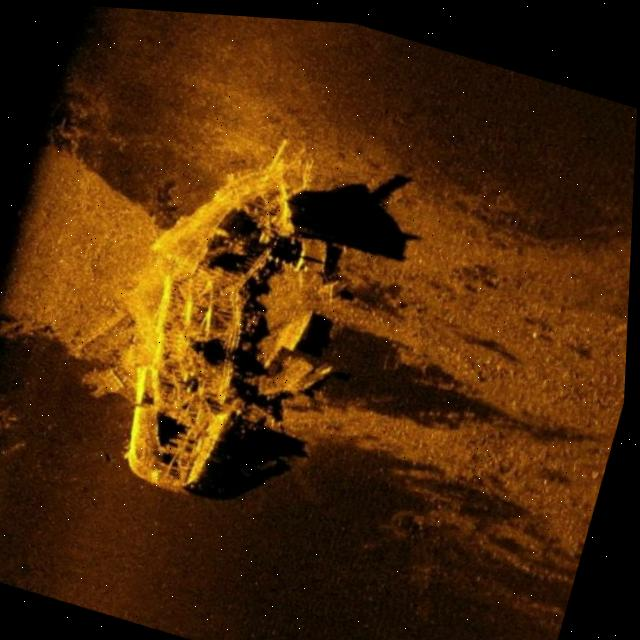shipwreck: (91, 101, 387, 526)
